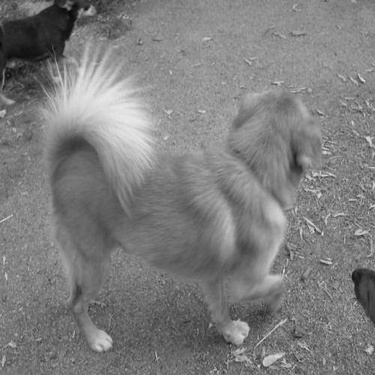dog: (22, 29, 330, 360)
